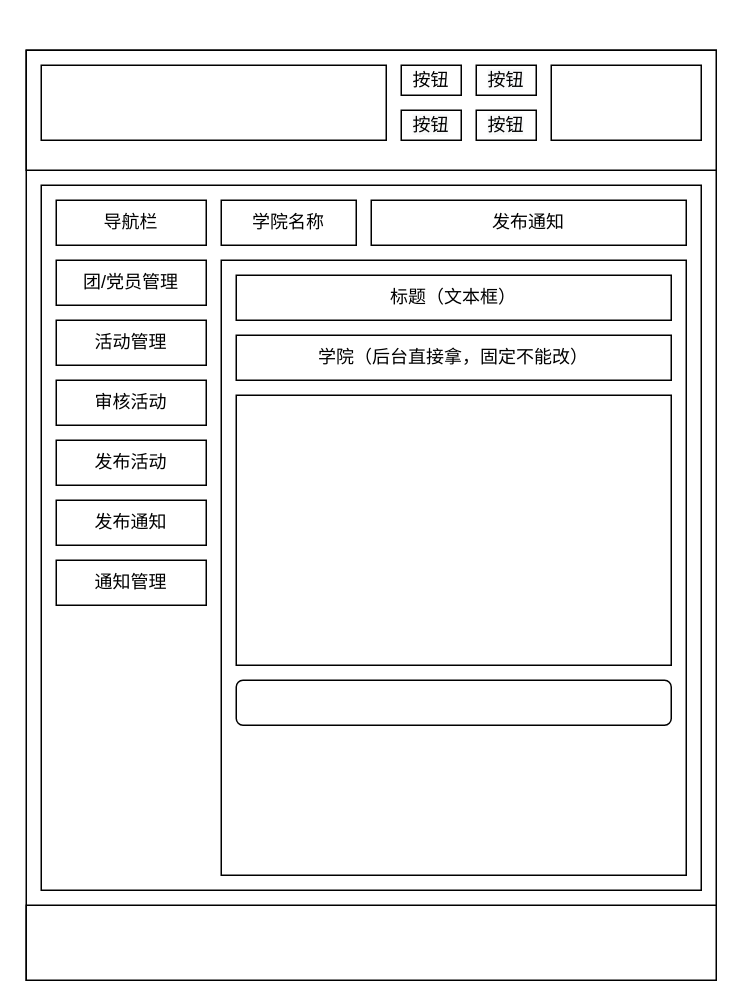
Some shapes in this 743 by 1007 pixel diagram are drawn without their labels. The centre of each missing label's shape, as x and y in pixels:
发布通知（直接发布，无需申请）: the point at 453,702
底部导航栏&联系发邮件: the point at 370,942
当前登录学生信息显示（跳转主页）: the point at 625,102
网站标题（文字+图片）: the point at 213,102
通知内容（文本框，富文本）: the point at 453,529
